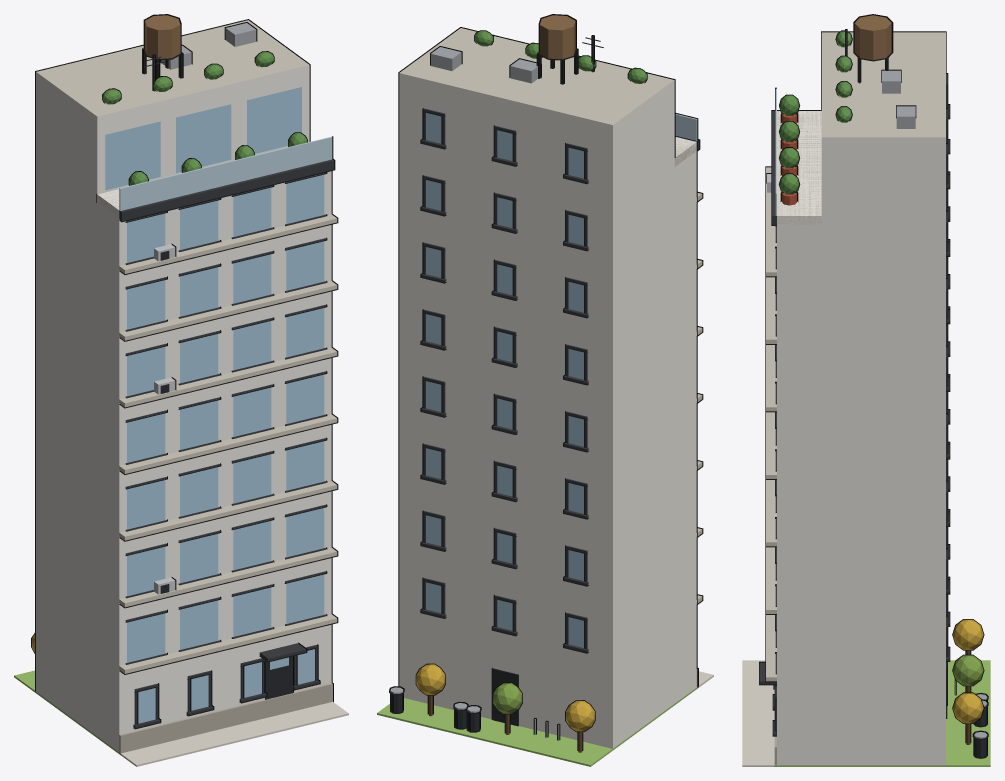
File: Blok_duz_9k_4.fbx
3 views of the same model, side by side, from view 1: azimuth 30°, elevation 25°; view 2: azimuth 150°, elevation 25°; view 3: azimuth 270°, elevation 25° (orthographic).
Visible parts, largest first — view 1: Blok_duz_9k_4; view 2: Blok_duz_9k_4; view 3: Blok_duz_9k_4.
Part boxes in pixels (x1,y1,x2,y2): Blok_duz_9k_4: (14, 14, 348, 766); Blok_duz_9k_4: (377, 14, 713, 766); Blok_duz_9k_4: (742, 14, 990, 766).
Size of the model in its own units: 10.06 by 30.41 by 10.
